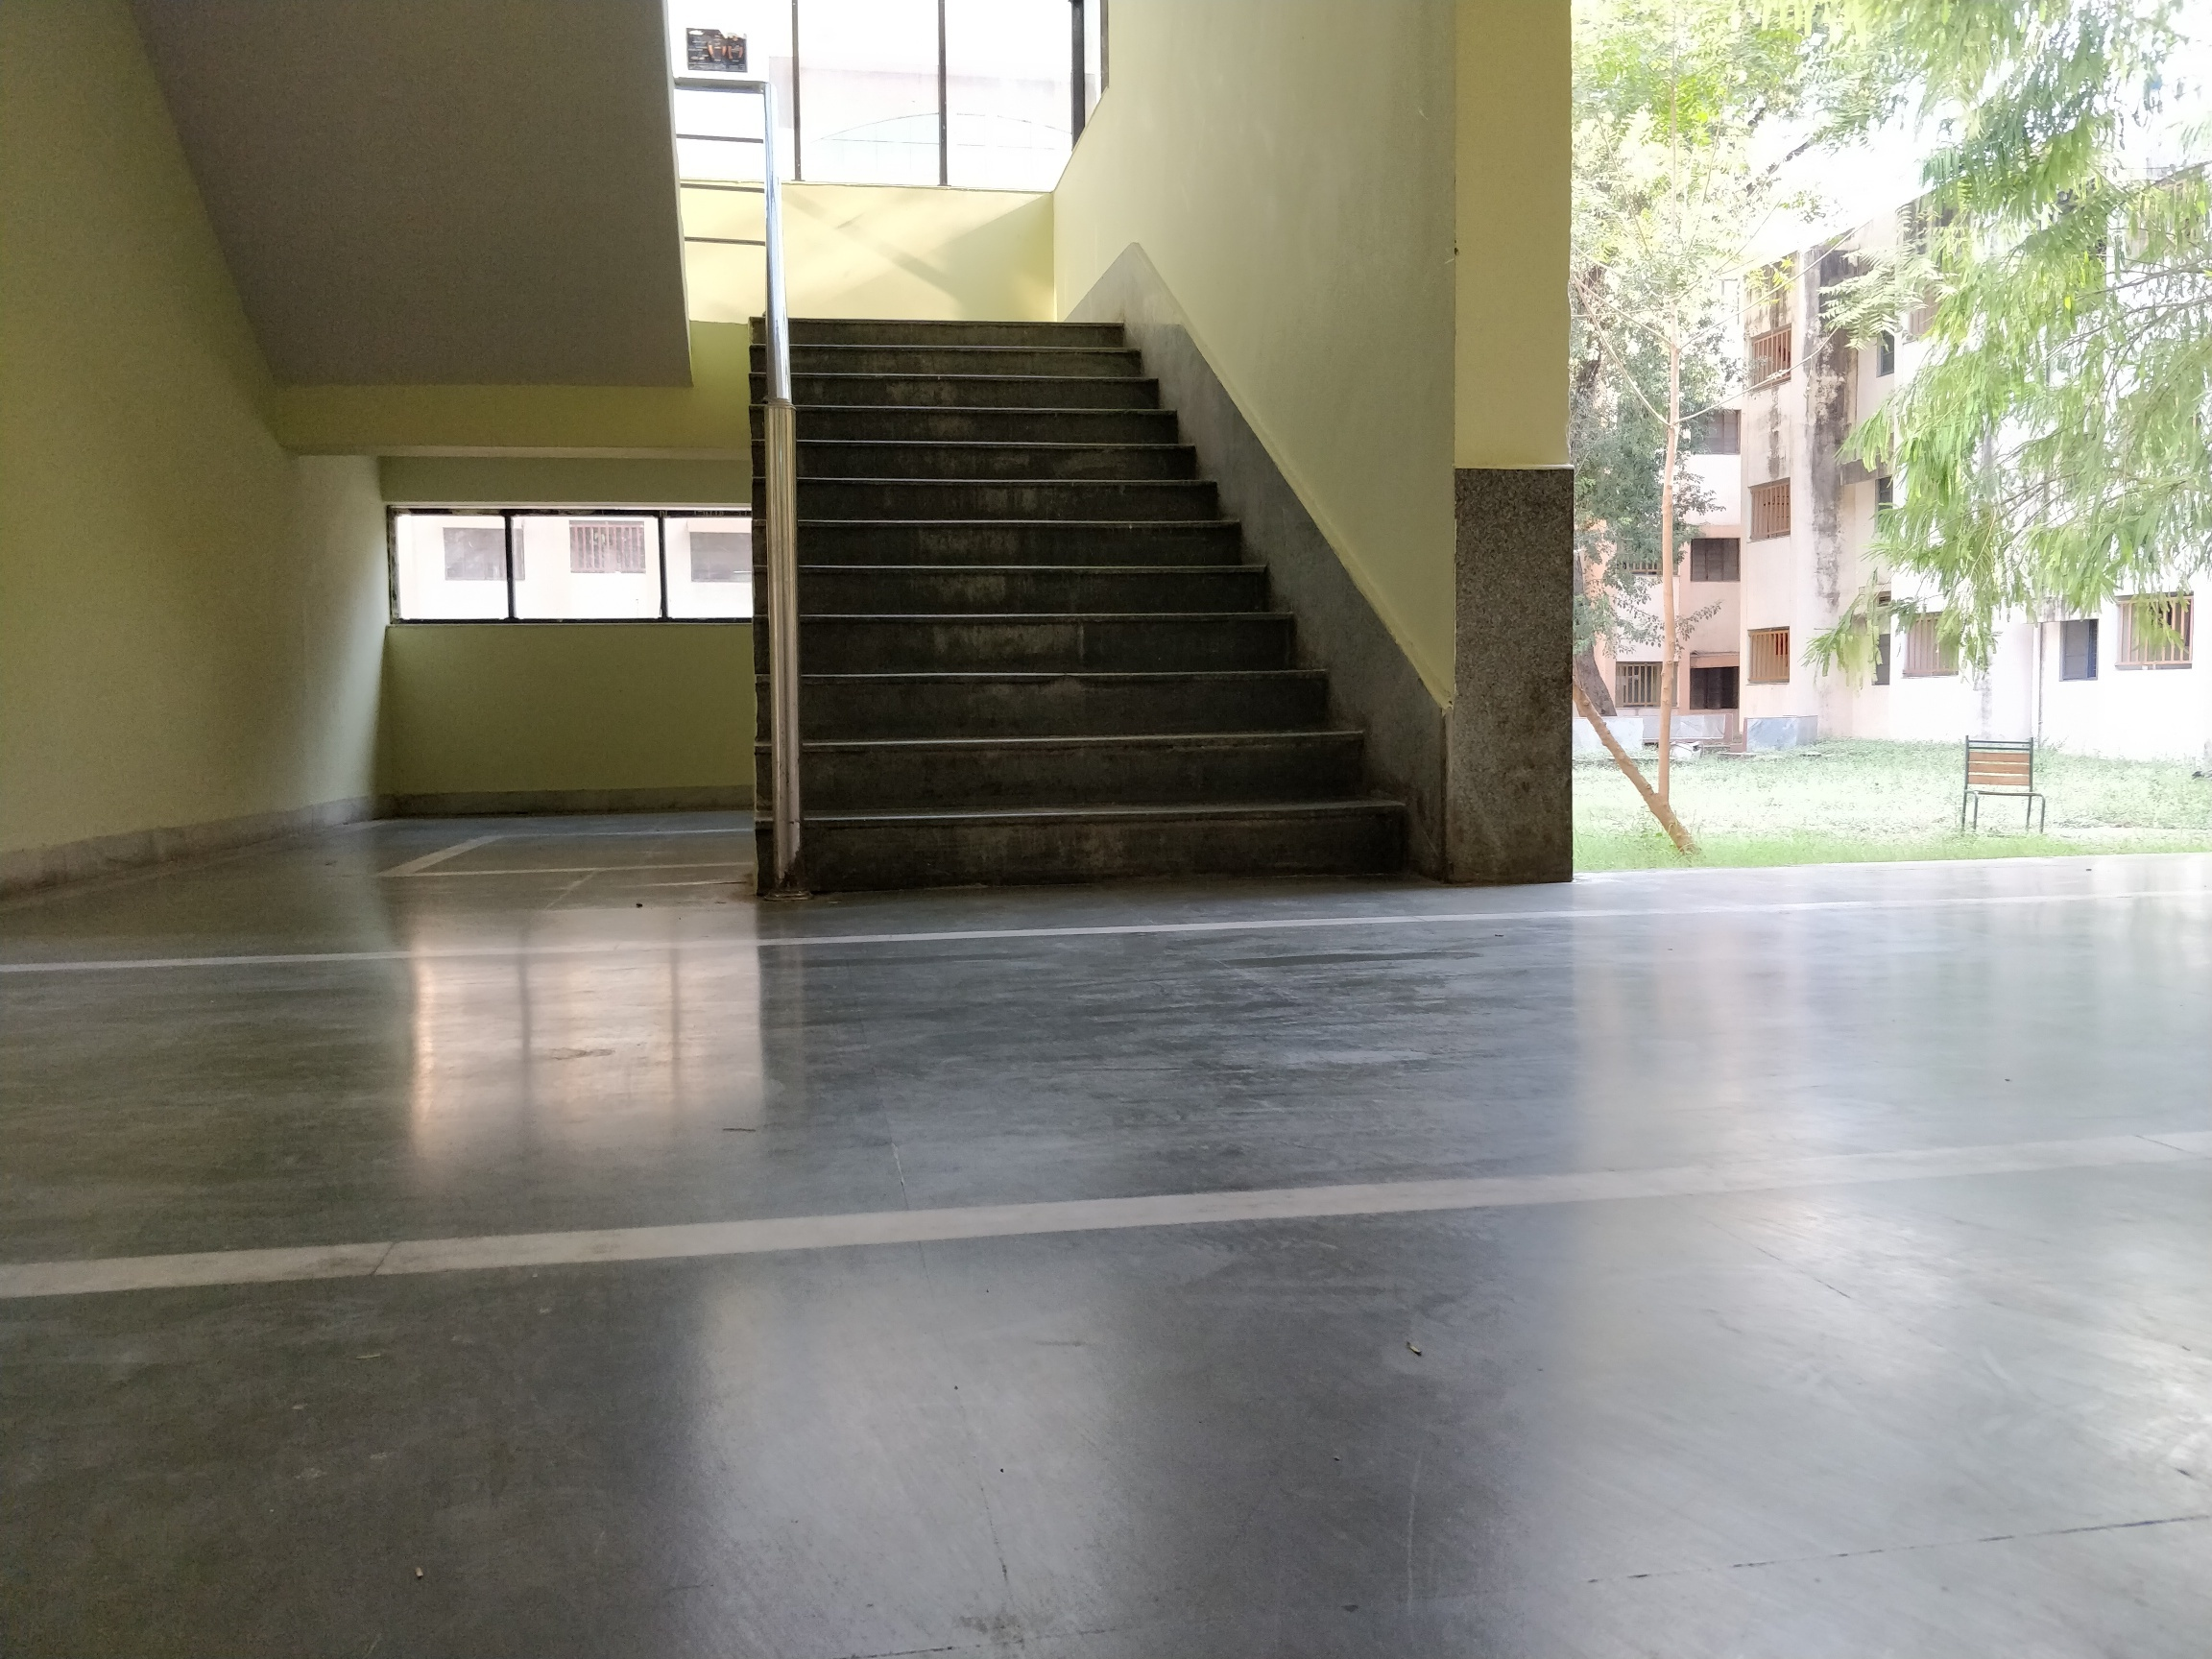stairs_up: (759, 308, 1426, 904)
